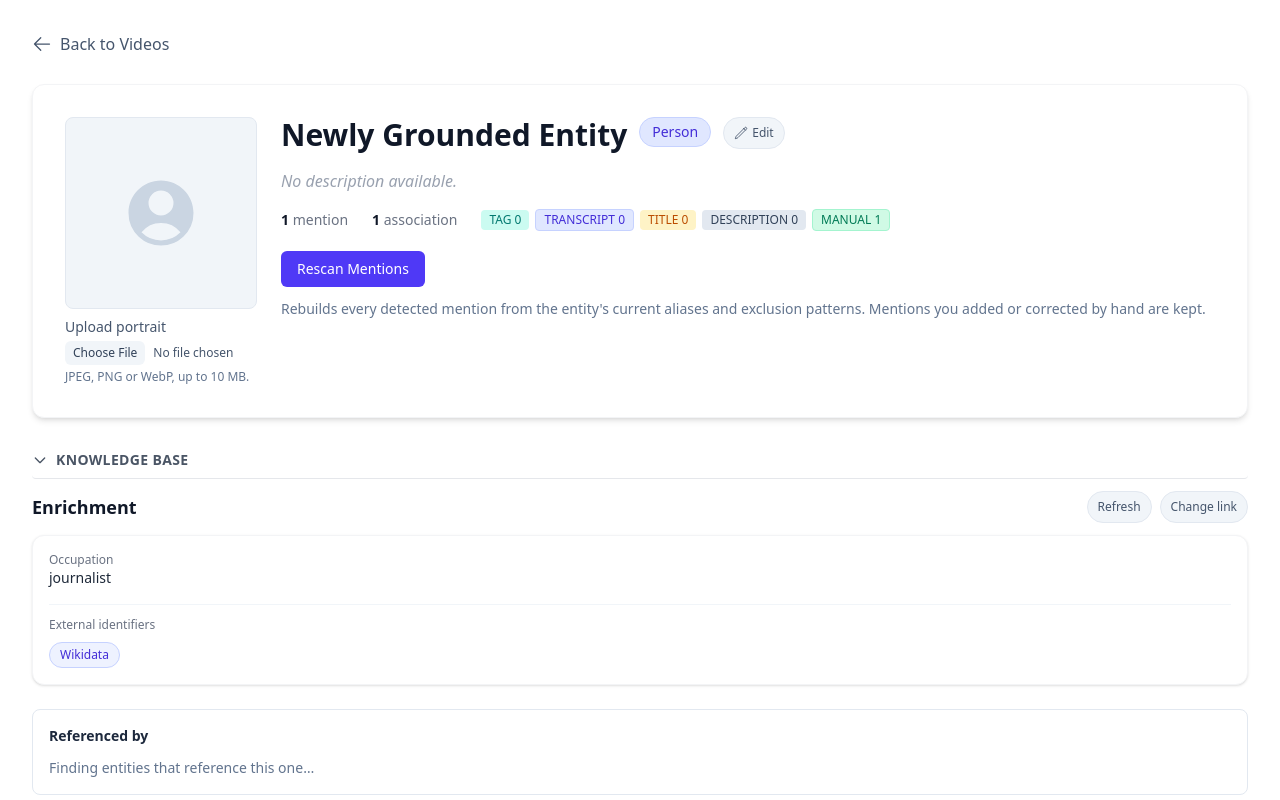
it: EntityDetailPage — bounded enrichment polling (Feature 068, FR-005a) › Refresh keeps polling past non-empty properties (Feature 079 follow-up) › keeps polling after Refresh even though properties are already non-empty, and stops once the refreshed facts land
Check: the text "journalist" is shown, box [49, 568, 111, 587]
Click the button with aria-label "refresh wikidata data". click: [1119, 507]
box: [1086, 491, 1152, 523]
Wait 30000 ms
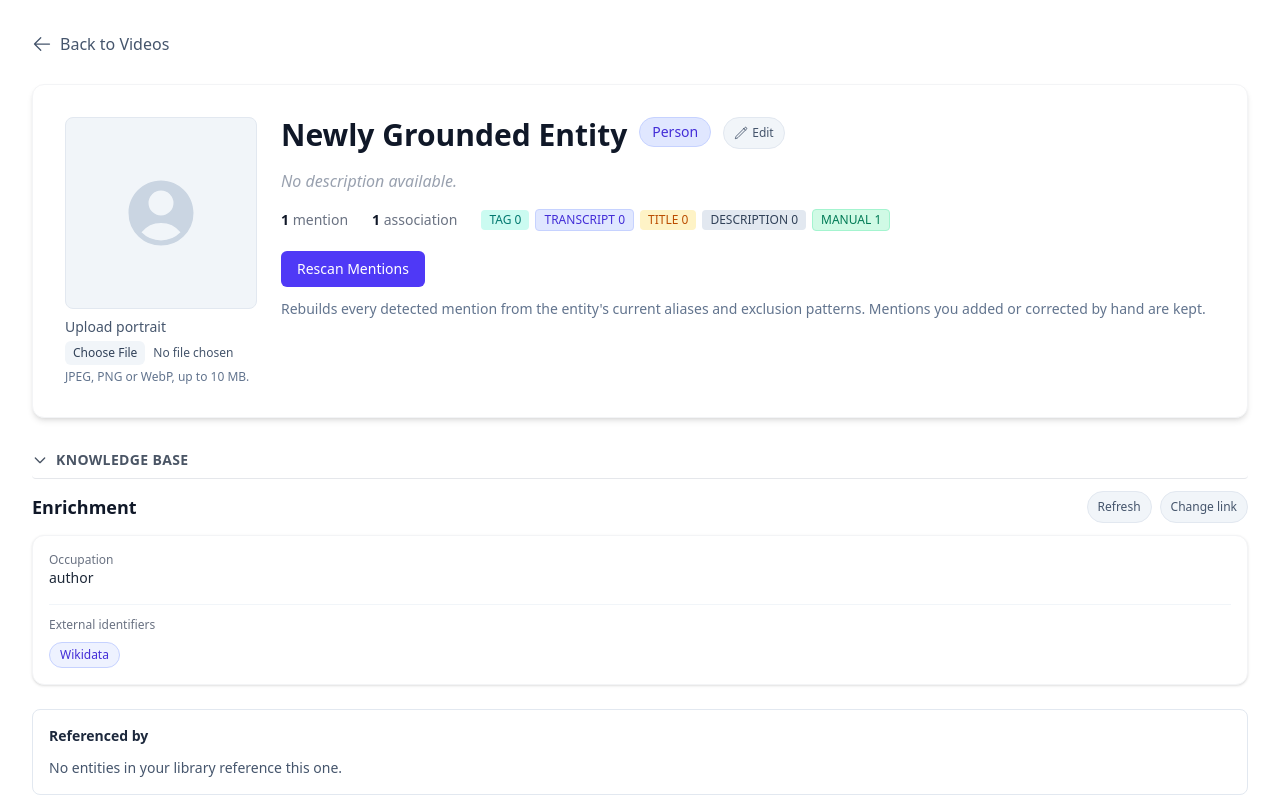
Check: the text "author" is shown, box [49, 568, 94, 587]
